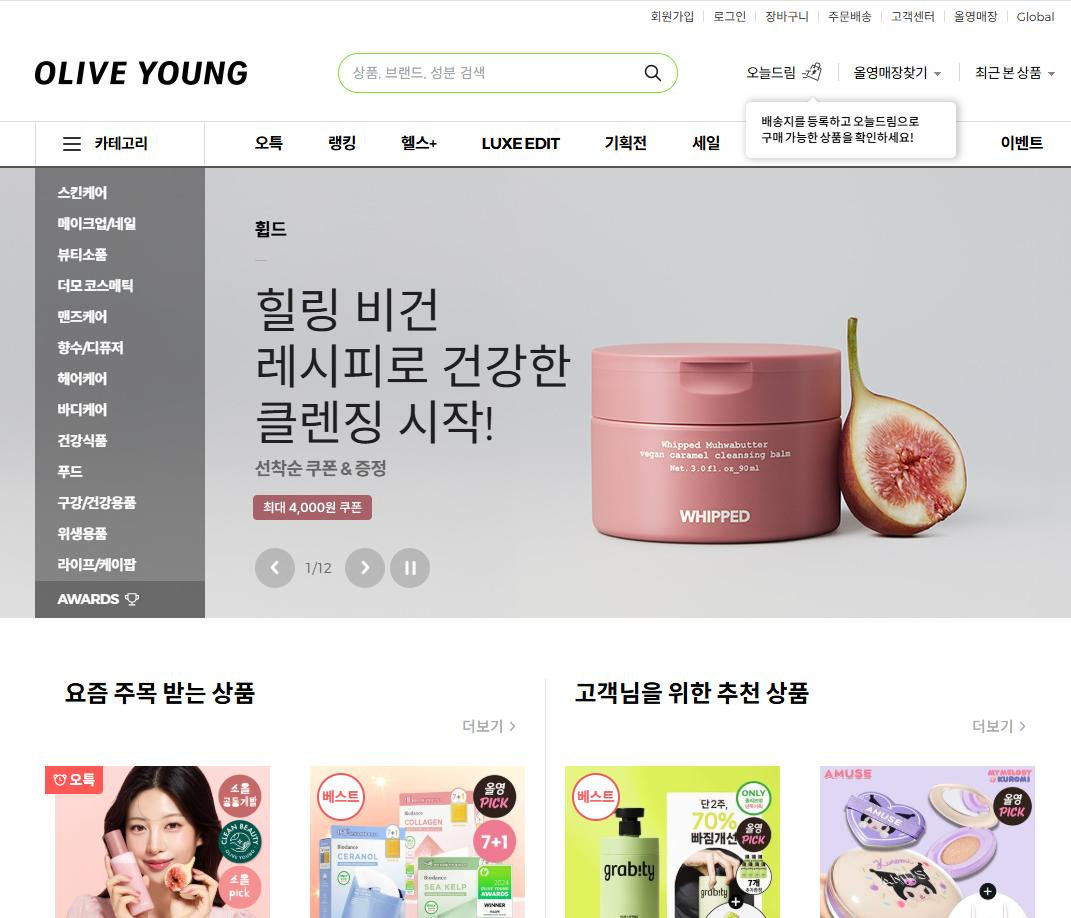button: (474, 130, 566, 156), (746, 56, 820, 86), (58, 210, 149, 234), (51, 274, 144, 295), (60, 492, 142, 515), (65, 128, 158, 148), (452, 711, 525, 736), (53, 179, 124, 200), (974, 719, 1039, 741), (58, 245, 118, 268), (60, 560, 150, 575), (54, 341, 133, 356), (54, 306, 116, 325), (240, 134, 291, 156), (824, 1, 870, 24), (400, 133, 450, 154), (601, 134, 655, 153), (769, 5, 813, 28), (56, 368, 119, 384), (956, 8, 1010, 26), (648, 9, 691, 29), (56, 526, 116, 540), (996, 130, 1041, 148), (324, 135, 361, 156), (55, 433, 114, 446), (899, 9, 944, 25), (56, 405, 111, 418), (1016, 9, 1061, 24), (59, 463, 96, 481), (688, 130, 719, 149), (714, 10, 745, 28), (355, 560, 373, 579), (270, 558, 284, 576), (402, 561, 415, 574)
checkbox: (976, 61, 1059, 83), (854, 61, 940, 80)
input_field: (336, 54, 680, 90)
